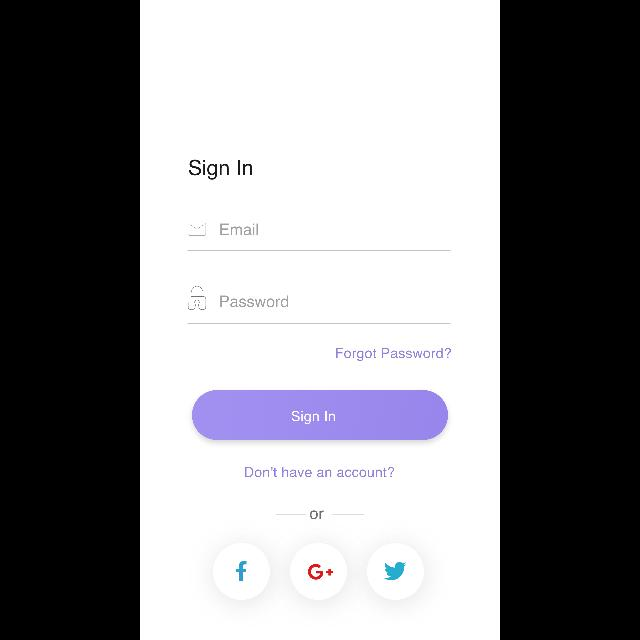icon: (213, 544, 270, 600), (290, 544, 346, 600), (368, 544, 424, 600), (188, 286, 206, 310), (188, 224, 206, 236)
input: (188, 286, 450, 324), (188, 222, 450, 252)
text: (245, 467, 395, 478), (336, 348, 452, 362), (190, 160, 252, 180), (221, 296, 289, 308), (221, 222, 259, 235), (310, 510, 324, 520)
textbutton: (192, 390, 448, 440)
